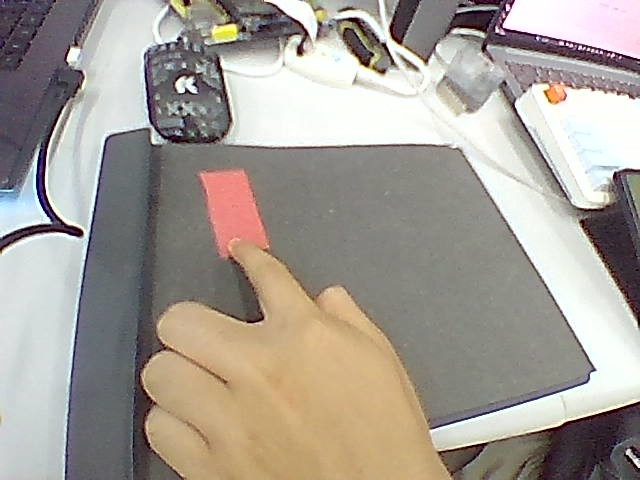card: (200, 170, 268, 257)
